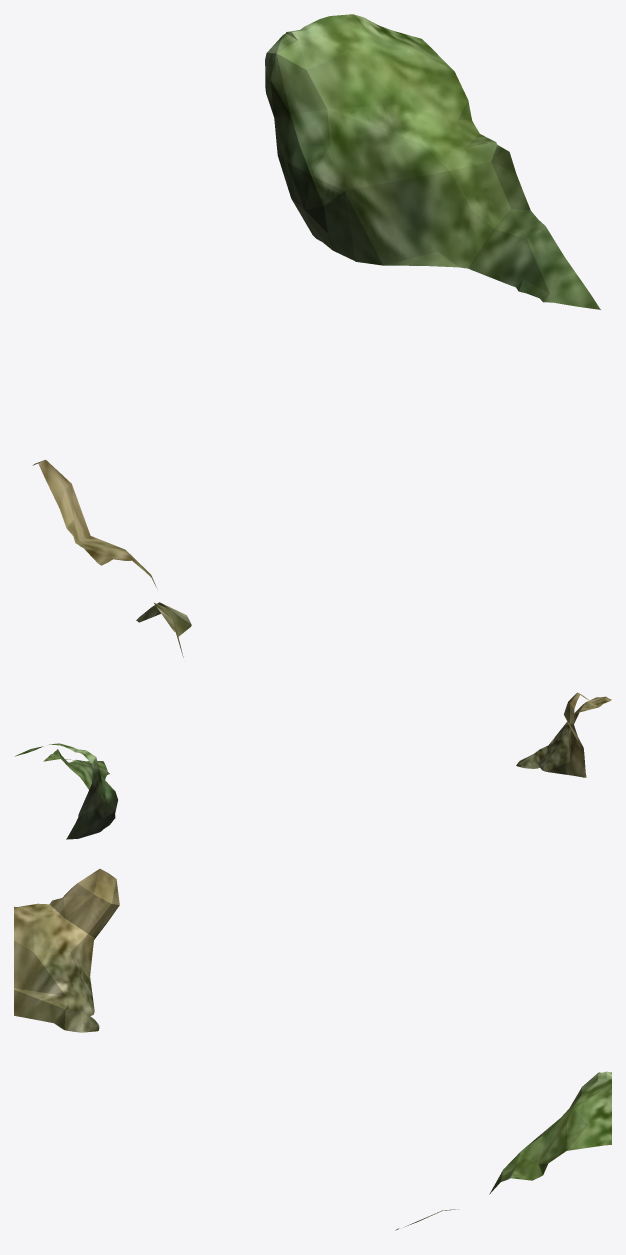
3 renders of one model, top to bottom at view 1: azimuth 30°, elevation 25°; view 2: azimuth 150°, elevation 25°; view 3: azimuth 270°, elevation 25°, orthographic. The views are drawn at different scales.
Size of the model in its own units: 2.95 by 0.6883 by 2.95.
Materials: 1 (1 with a texture image).
